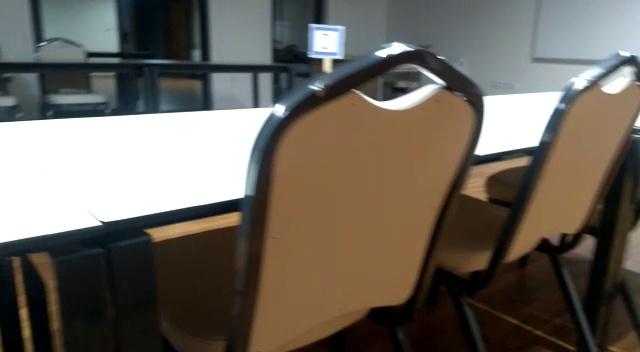durak: (308, 27, 345, 59)
